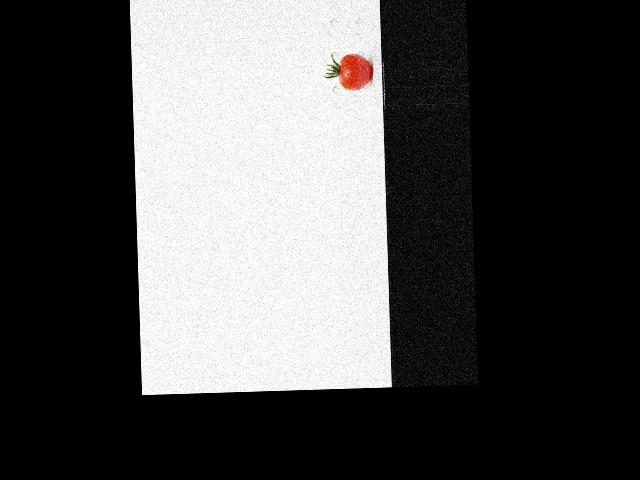tomato: (338, 52, 372, 89)
